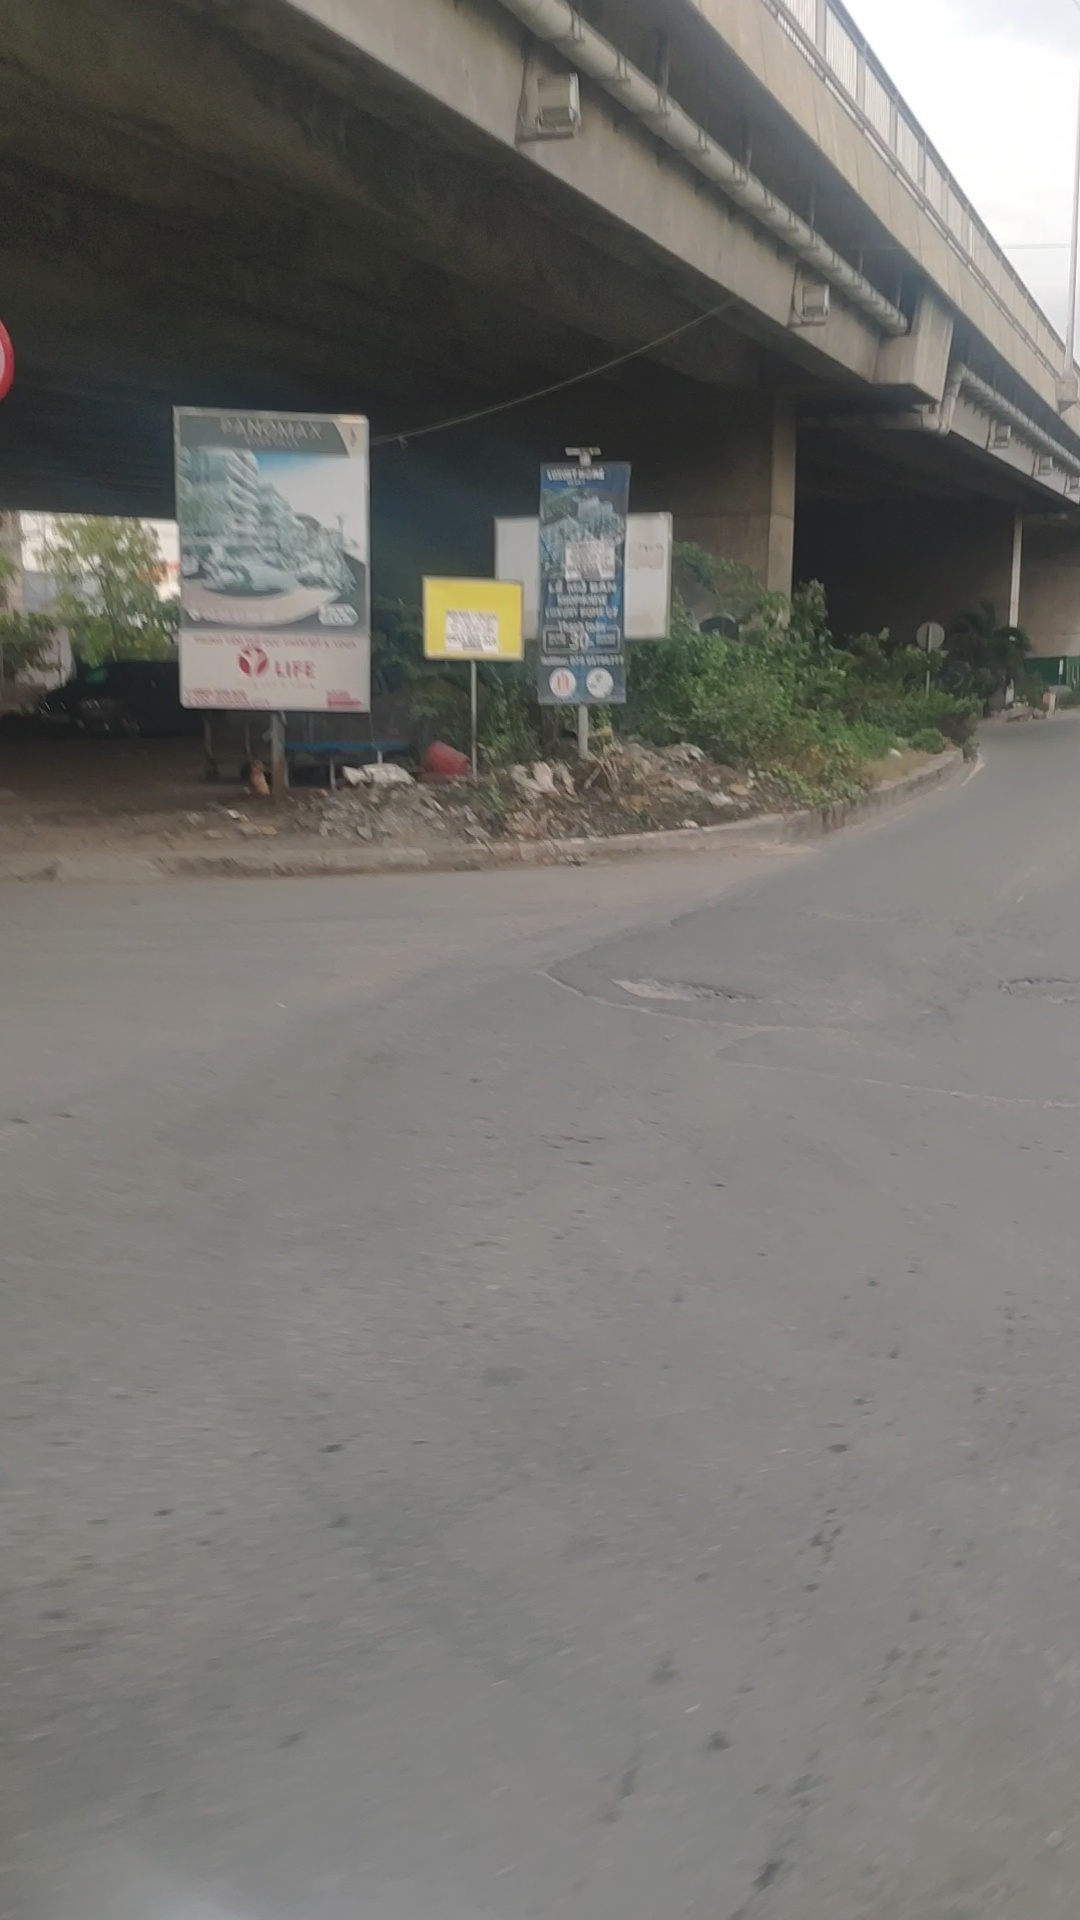hole: (597, 969, 766, 1007), (992, 972, 1080, 1009)
